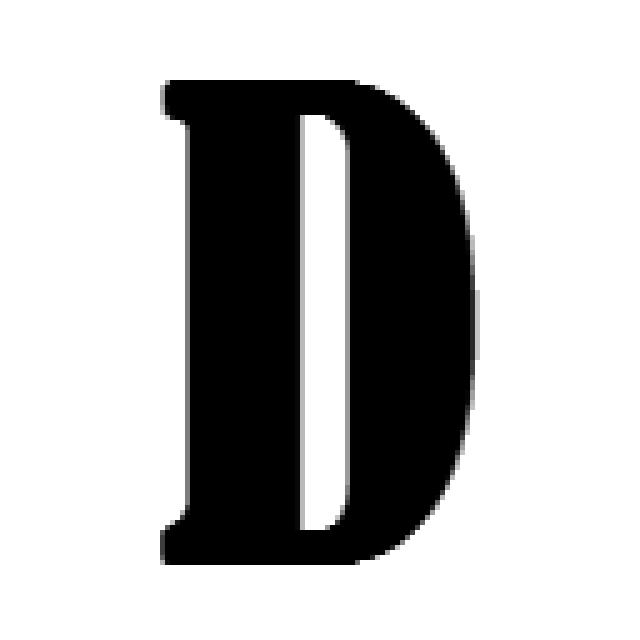D: (150, 70, 480, 565)
